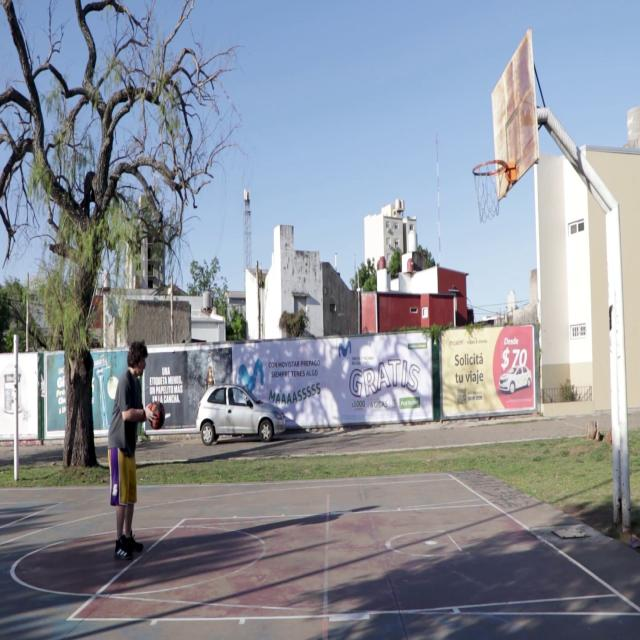ball: (149, 402, 165, 429)
